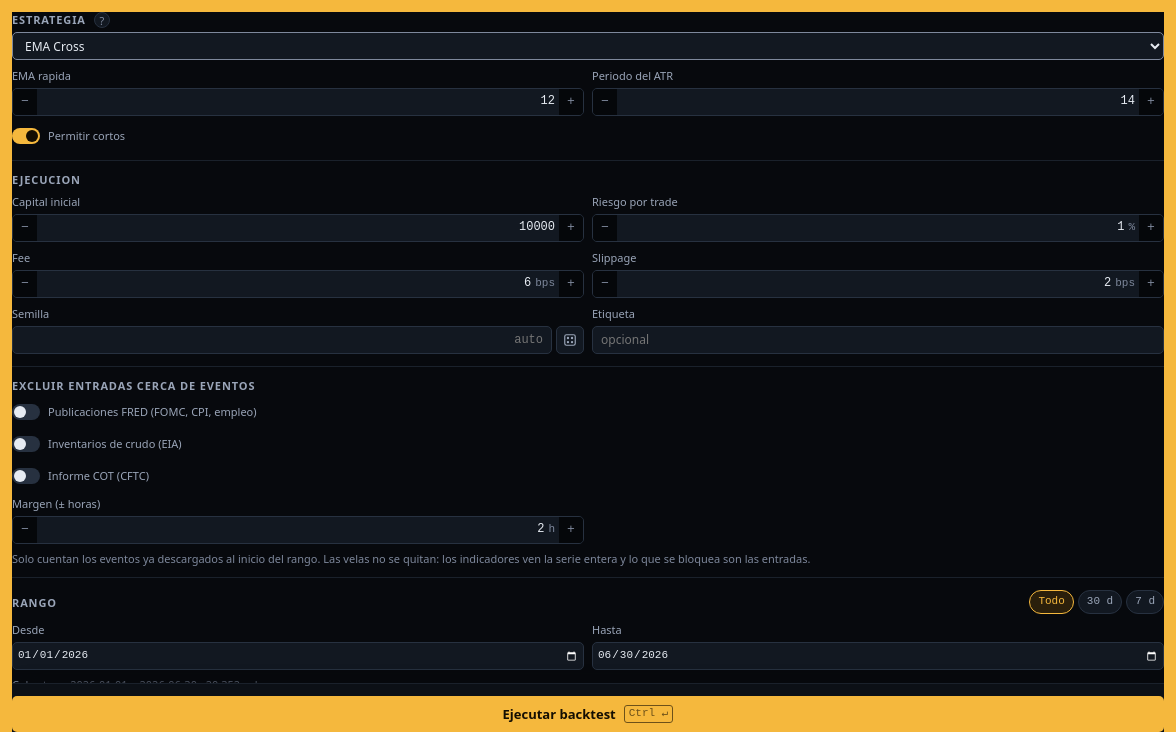
Test case: StrategyPanel › un parametro que comparten dos estrategias vuelve al default de la nueva, no arrastra lo editado
This screenshot has width=1176, height=732.
Expected: the number field labelled "EMA rapida" is shown, [37,89,559,115]
Replace the text in the number field labelled "Periodo del ATR" with "99": (878, 102) [617,89,1139,115]
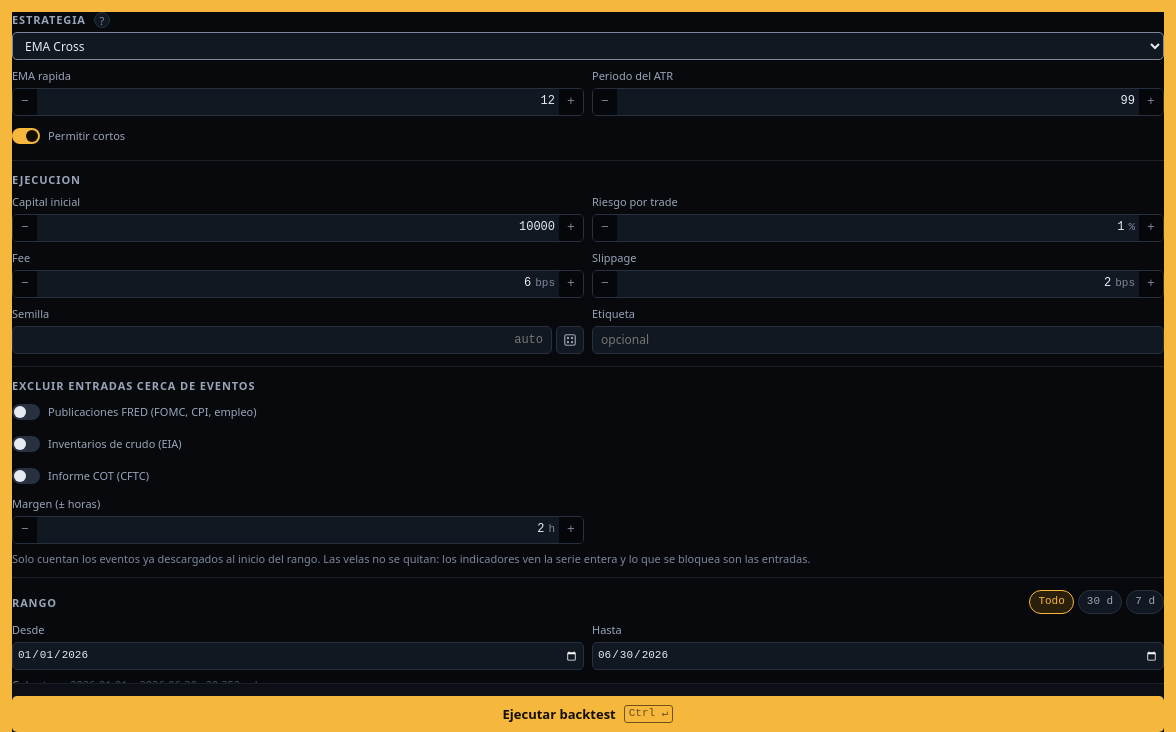
Select "Range Breakout" in the dropdown labelled "Estrategia": (588, 46) [12,32,1164,60]
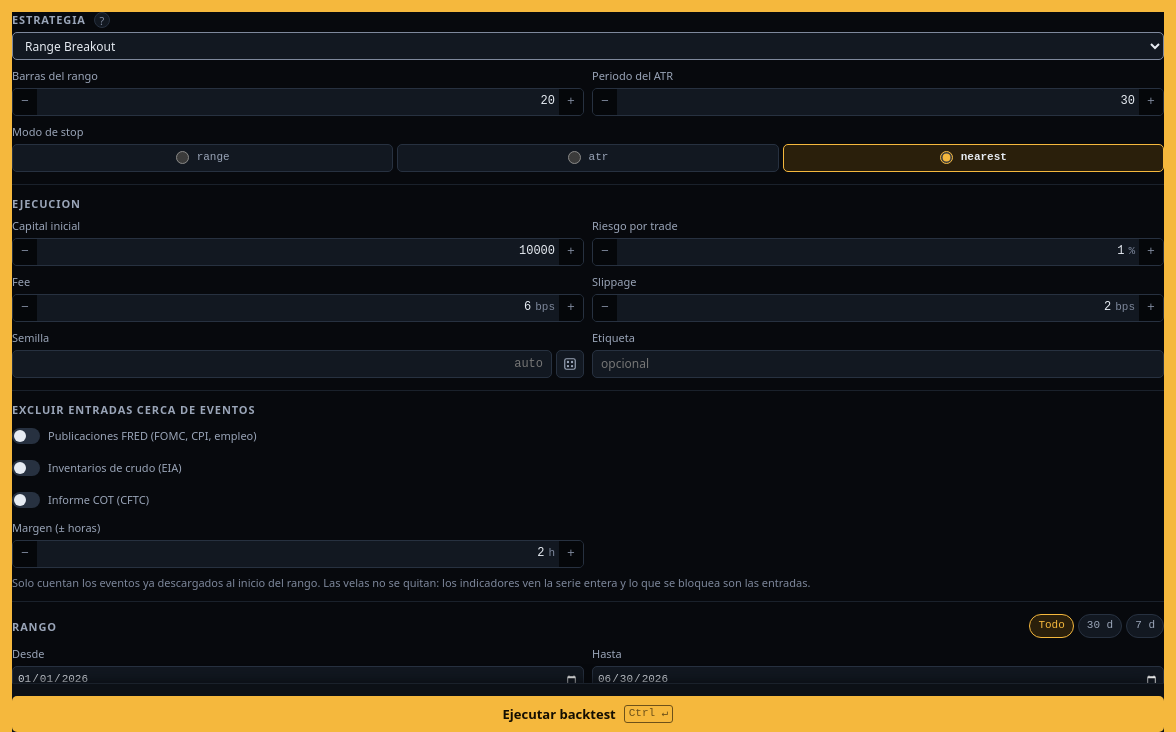
Expected: the number field labelled "Barras del rango" is shown, [37,89,559,115]
Expected: the number field labelled "Periodo del ATR" holds "30", [617,89,1139,115]
